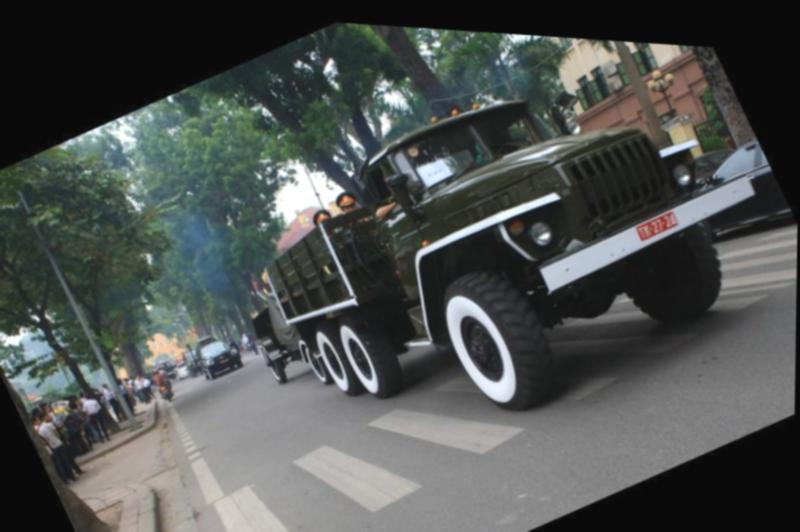License_Plate: (629, 206, 680, 255)
